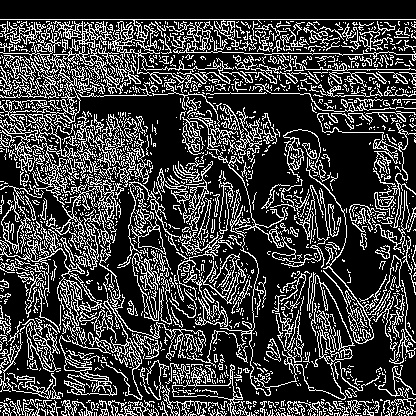buddha-sitting: (159, 214, 185, 238)
